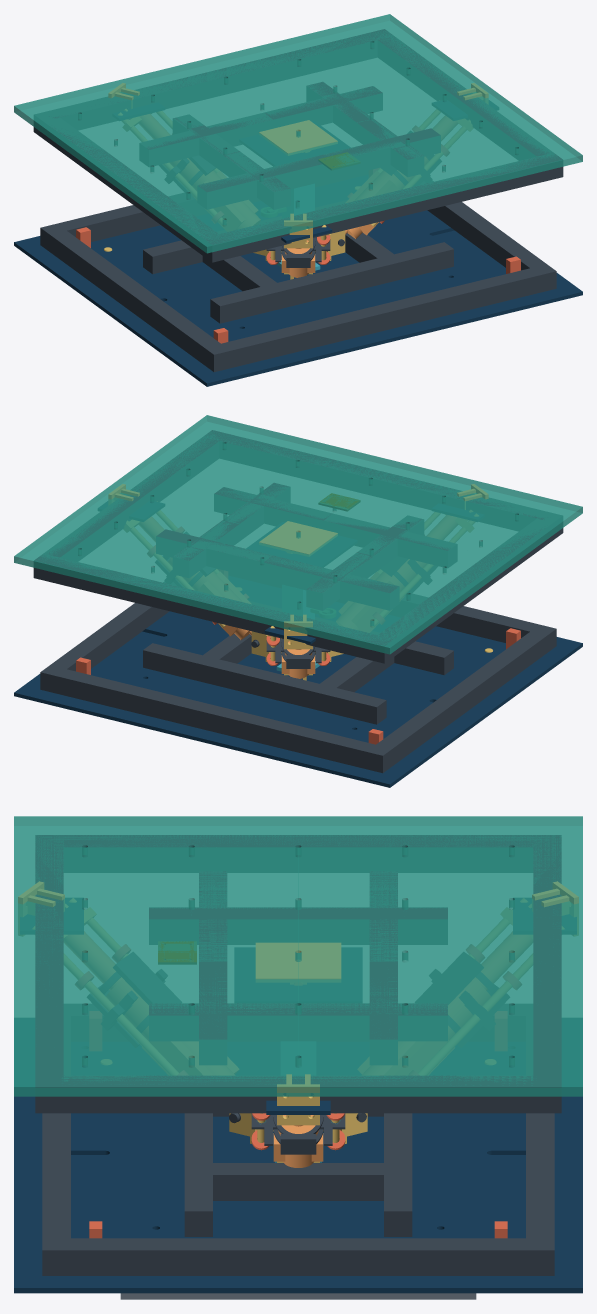
Rendered from leveling_module_neutral.glb.
3 views of the same model, one above another, from view 1: azimuth 30°, elevation 25°; view 2: azimuth 150°, elevation 25°; view 3: azimuth 270°, elevation 25° (orthographic). The views are drawn at different scales.
Visible parts, largest first — view 1: upper_acrylic_panel, lower_HFS8_frame, lower_interface_plate, upper_HFS8_frame, compact_cardan_upper, upper_radial_clevises, actuator_A3_limit_fixed_carrier, four_mechanical_latches, actuator_A3; view 2: upper_acrylic_panel, lower_HFS8_frame, lower_interface_plate, upper_HFS8_frame, compact_cardan_upper, upper_radial_clevises, actuator_A2_limit_fixed_carrier, four_mechanical_latches, actuator_A2; view 3: upper_acrylic_panel, lower_interface_plate, upper_HFS8_frame, lower_HFS8_frame, compact_cardan_upper, upper_radial_clevises, cart_receiver_dummy, actuator_A1_limit_fixed_carrier, actuator_A1, imu_bracket, lower_actuator_brackets, upper_load_spreaders.
Boxes of the visible parts, box(x1,y1,x2,y2) form: upper_acrylic_panel: box(14, 14, 582, 253); lower_HFS8_frame: box(40, 202, 556, 372); lower_interface_plate: box(14, 210, 582, 386); upper_HFS8_frame: box(33, 29, 563, 262); compact_cardan_upper: box(259, 120, 337, 153); upper_radial_clevises: box(108, 83, 488, 248); actuator_A3_limit_fixed_carrier: box(266, 237, 330, 267); four_mechanical_latches: box(76, 227, 520, 343); actuator_A3: box(281, 240, 315, 277); upper_acrylic_panel: box(14, 415, 582, 654); lower_HFS8_frame: box(40, 603, 556, 773); lower_interface_plate: box(14, 611, 582, 787); upper_HFS8_frame: box(33, 430, 563, 663); compact_cardan_upper: box(259, 521, 337, 554); upper_radial_clevises: box(108, 484, 488, 649); actuator_A2_limit_fixed_carrier: box(266, 638, 330, 668); four_mechanical_latches: box(76, 628, 520, 744); actuator_A2: box(281, 641, 315, 678); upper_acrylic_panel: box(14, 816, 582, 1096); lower_interface_plate: box(14, 1096, 582, 1293); upper_HFS8_frame: box(35, 835, 561, 1113); lower_HFS8_frame: box(42, 1113, 554, 1275); compact_cardan_upper: box(256, 943, 340, 979); upper_radial_clevises: box(18, 881, 578, 1125); cart_receiver_dummy: box(120, 1293, 476, 1299); actuator_A1_limit_fixed_carrier: box(251, 1113, 345, 1154); actuator_A1: box(273, 1115, 323, 1167); imu_bracket: box(158, 941, 196, 964); lower_actuator_brackets: box(229, 1113, 367, 1162); upper_load_spreaders: box(266, 1100, 330, 1114).
Bounding box in the file's own units: 905 × 388 × 800.
